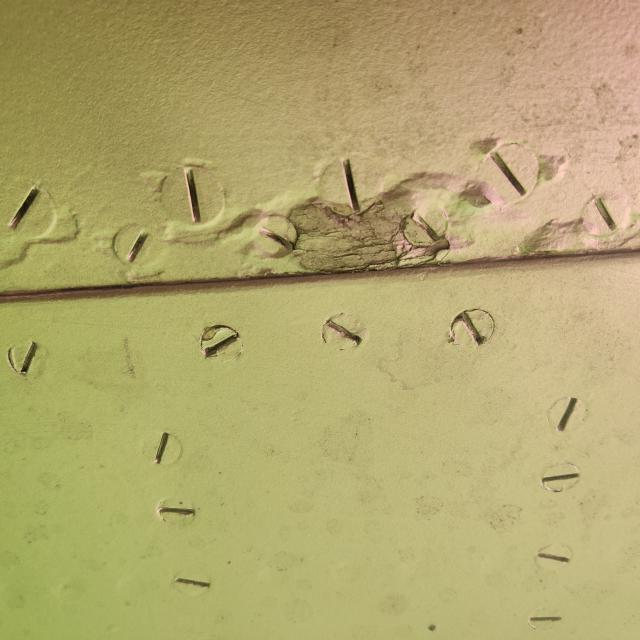paint-off: (258, 132, 501, 305)
